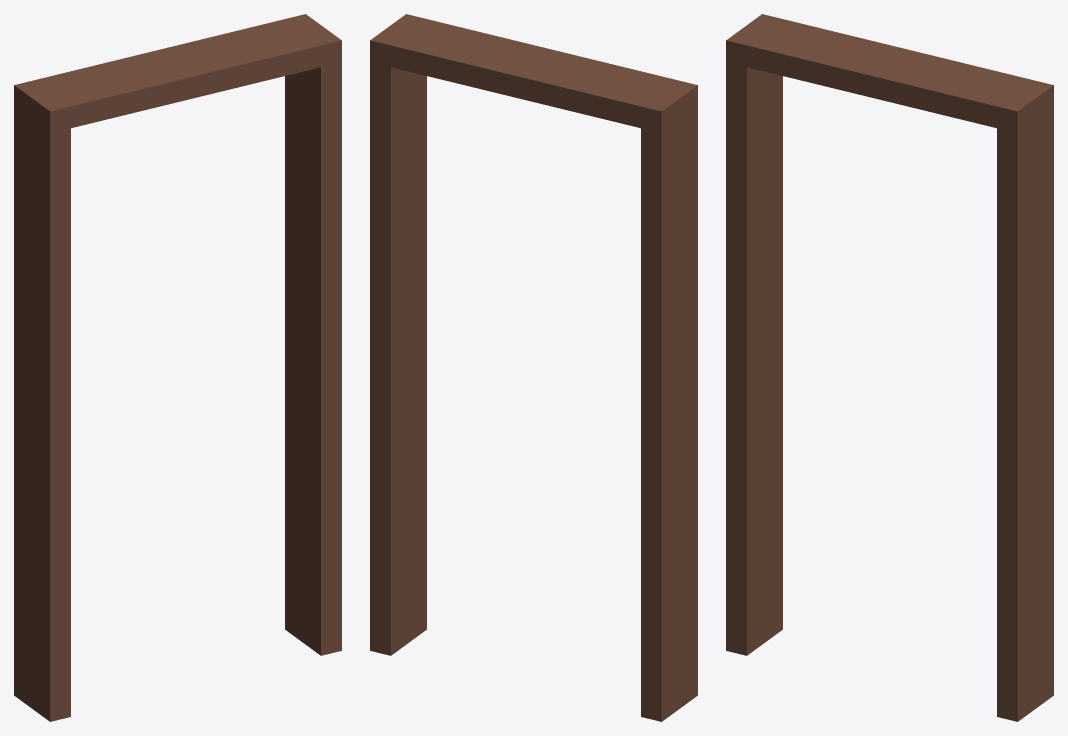
The model's file is Interior_Furniture-1.obj.
The picture shows the model from 3 angles, left to right: view 1: azimuth 30°, elevation 25°; view 2: azimuth 150°, elevation 25°; view 3: azimuth 330°, elevation 25°; orthographic projection.
Bounding box in the file's own units: 1.4 × 2.8 × 0.3.
Materials: 1 (1 with a texture image).
